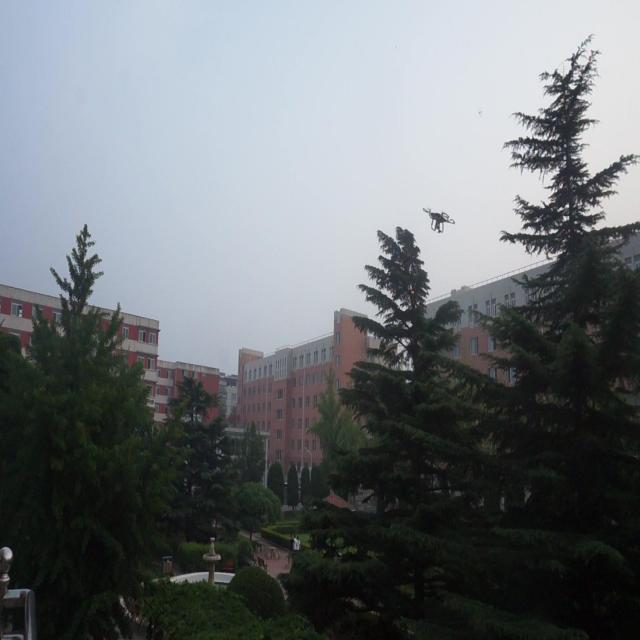UAV: (422, 208, 455, 232)
